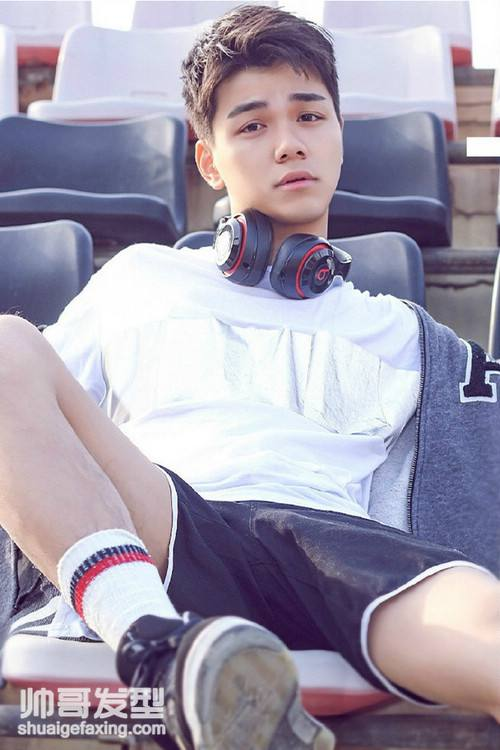person: (141, 2, 451, 599)
